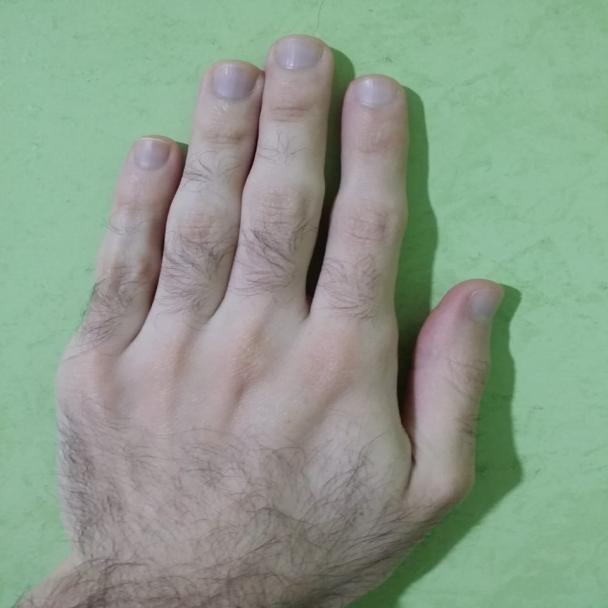five: (73, 28, 516, 582)
